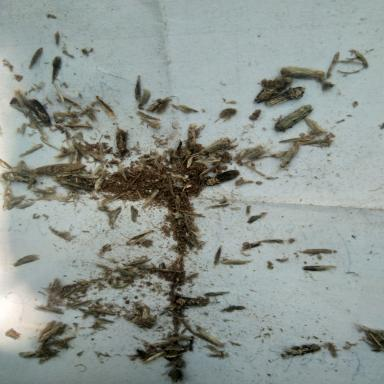pbw: (252, 76, 292, 104), (274, 104, 314, 132), (187, 137, 231, 158), (263, 86, 306, 106), (26, 98, 52, 126), (276, 143, 300, 172), (280, 66, 325, 80), (204, 169, 240, 186), (113, 123, 128, 157), (0, 172, 38, 185), (286, 344, 324, 356), (125, 230, 152, 246), (172, 295, 210, 306), (14, 88, 28, 108)
